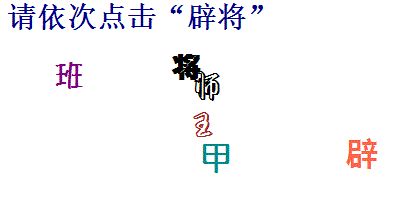text: (345, 138, 379, 172), (202, 142, 231, 173), (171, 52, 201, 81), (55, 61, 84, 90), (194, 71, 222, 101), (193, 112, 214, 139)
